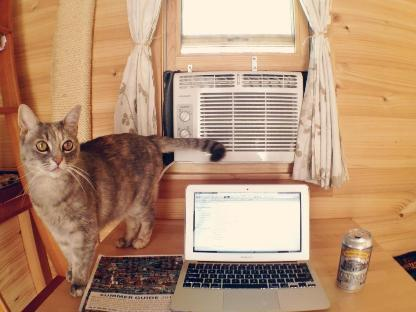Can: (334, 229, 374, 295)
